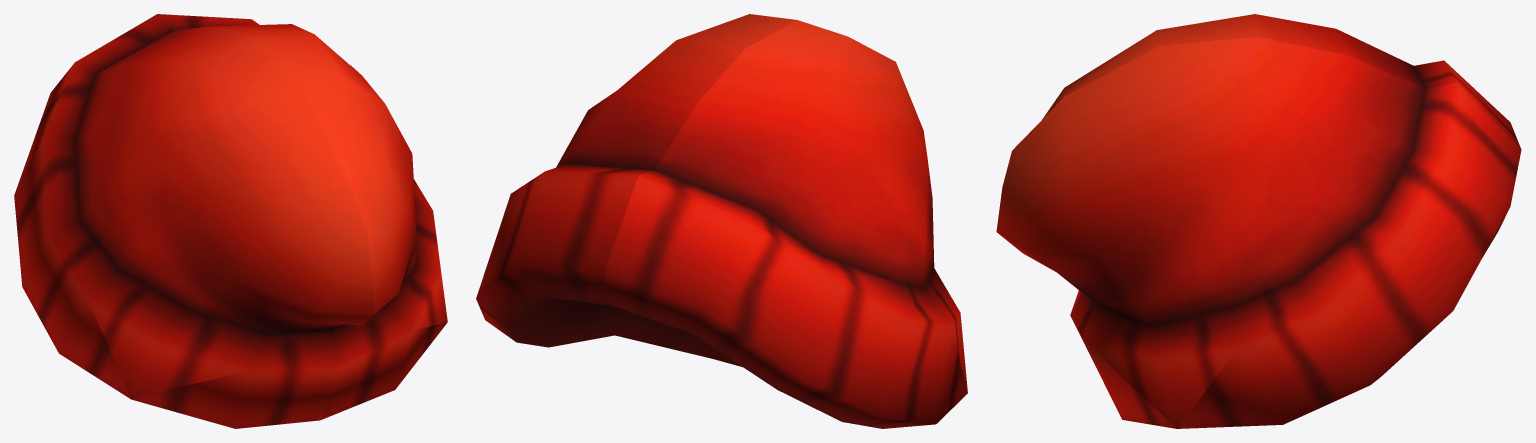
File: unlocker_tricky.fbx
3 renders of one model, left to right at view 1: azimuth 30°, elevation 25°; view 2: azimuth 150°, elevation 25°; view 3: azimuth 270°, elevation 25°, orthographic. The views are drawn at different scales.
Visible parts, largest first — view 1: unlocker_tricky; view 2: unlocker_tricky; view 3: unlocker_tricky.
Boxes of the visible parts, x1,y1,x2,y2 form: unlocker_tricky: [14, 14, 447, 428]; unlocker_tricky: [476, 14, 967, 428]; unlocker_tricky: [996, 14, 1521, 428].
Size of the model in its own units: 7.41 by 6.48 by 8.82.
